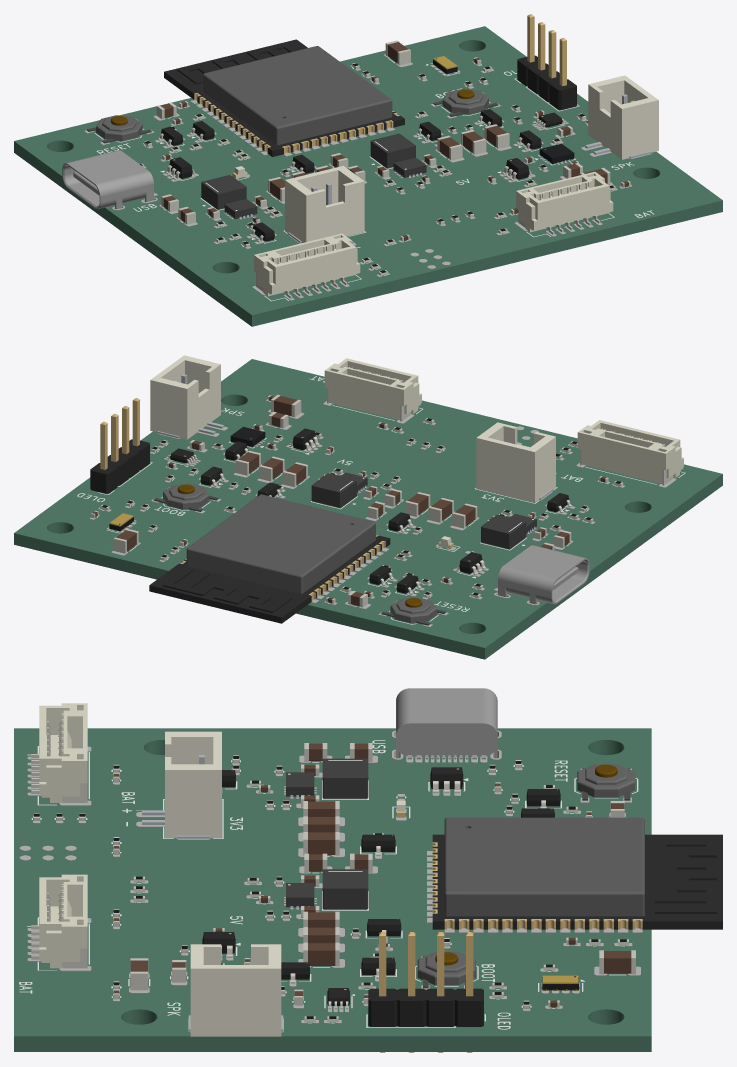
Rendered from assembly.glb.
The picture shows the model from 3 angles, top to bottom: view 1: azimuth 30°, elevation 25°; view 2: azimuth 150°, elevation 25°; view 3: azimuth 270°, elevation 25°; orthographic projection. The views are drawn at different scales.
Parts seen in each view (by area): view 1: =>[0:1:1:25], U3, housing (×2), J5, =>[0:1:1:22], J6, J2, J4, =>[0:1:1:23], L2, L1, SW2 (+3 smaller); view 2: =>[0:1:1:25], U3, housing (×2), J5, J6, J2, =>[0:1:1:22], J4, =>[0:1:1:23], L1, L2, SW2 (+2 smaller); view 3: =>[0:1:1:25], U3, housing (×2), J2, =>[0:1:1:22], J4, J5, J6, =>[0:1:1:23], L1, L2, SW2 (+16 smaller).
Part boxes in pixels (<box>): =>[0:1:1:25]: <box>14,26,722,326</box>; U3: <box>164,39,404,156</box>; housing (×2): <box>285,75,658,242</box>; J5: <box>254,233,360,298</box>; =>[0:1:1:22]: <box>84,54,651,300</box>; J6: <box>516,172,613,234</box>; J2: <box>62,150,153,209</box>; J4: <box>517,14,576,109</box>; =>[0:1:1:23]: <box>94,58,654,301</box>; L2: <box>370,133,415,168</box>; L1: <box>201,175,246,209</box>; SW2: <box>87,115,151,143</box>; =>[0:1:1:25]: <box>14,359,722,659</box>; U3: <box>149,494,390,623</box>; housing (×2): <box>150,355,555,502</box>; J5: <box>577,420,683,485</box>; J6: <box>324,358,421,421</box>; J2: <box>498,545,589,604</box>; =>[0:1:1:22]: <box>89,399,676,627</box>; J4: <box>90,398,149,493</box>; =>[0:1:1:23]: <box>77,376,685,624</box>; L1: <box>481,514,526,549</box>; L2: <box>311,473,356,507</box>; SW2: <box>381,597,445,625</box>; =>[0:1:1:25]: <box>14,728,651,1051</box>; U3: <box>432,817,722,929</box>; housing (×2): <box>165,731,281,1036</box>; J2: <box>396,688,497,759</box>; =>[0:1:1:22]: <box>19,730,642,1032</box>; J4: <box>368,932,483,1052</box>; J5: <box>31,703,87,802</box>; J6: <box>31,874,87,968</box>; =>[0:1:1:23]: <box>19,740,638,1029</box>; L1: <box>322,758,368,798</box>; L2: <box>322,869,368,909</box>; SW2: <box>577,764,635,800</box>.
Size of the model in its own units: 0.0655 by 0.0115 by 0.0623.
